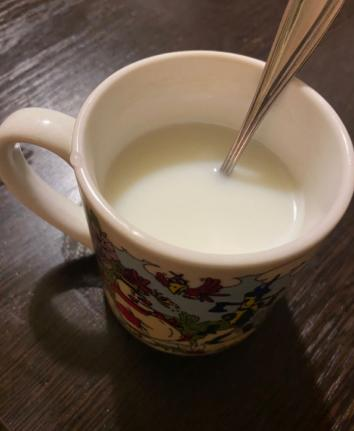produk_susu: (95, 72, 313, 346)
